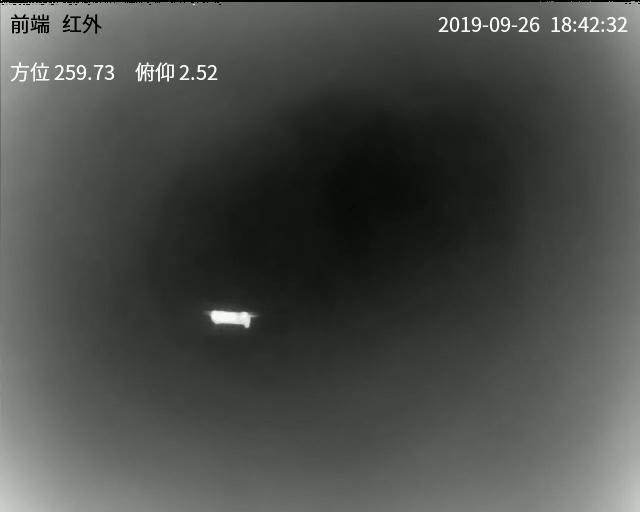uav: (199, 303, 261, 331)
